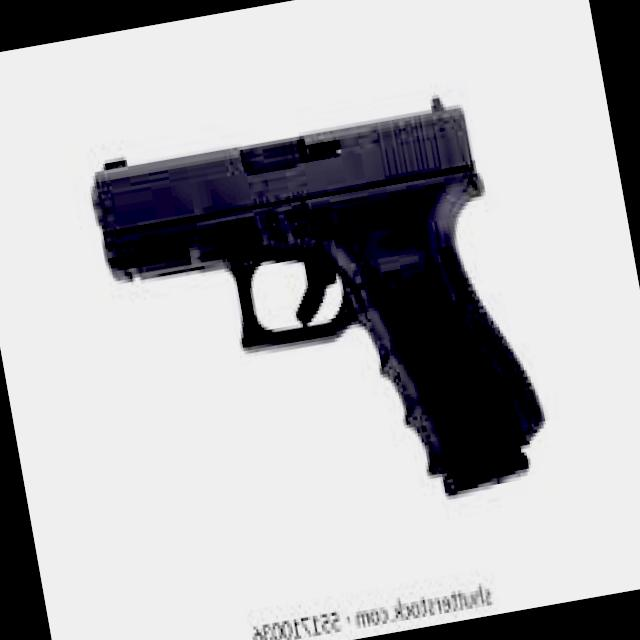semi automatic: (75, 75, 563, 561)
